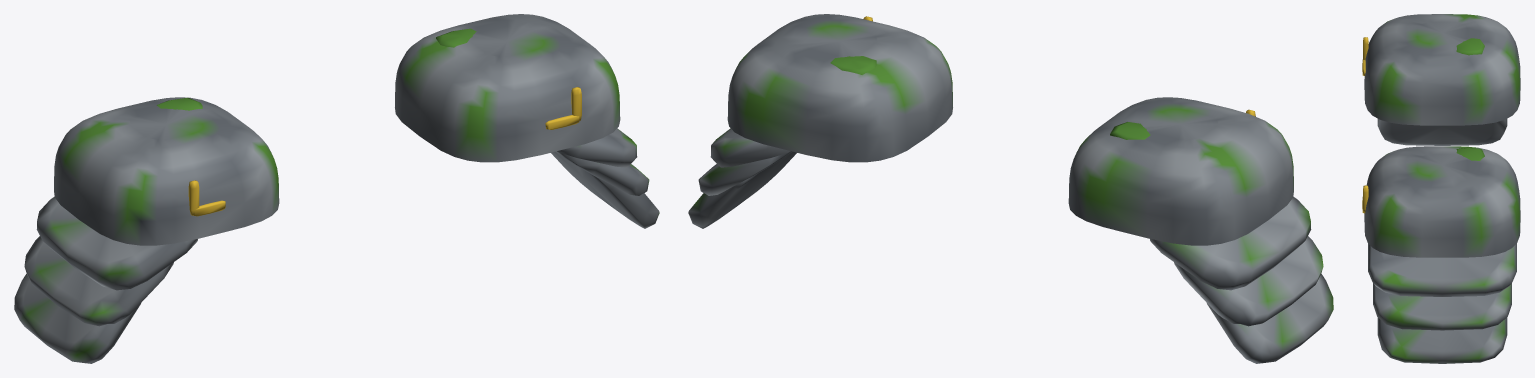
Rendered from neck_bxgolem.glb.
3 views of the same model, side by side, from view 1: azimuth 30°, elevation 25°; view 2: azimuth 150°, elevation 25°; view 3: azimuth 270°, elevation 25° (orthographic). The views are drawn at different scales.
Visible parts, largest first — view 1: bxgolem; view 2: bxgolem; view 3: bxgolem.
Boxes of the visible parts, bbox=[...] form: bxgolem: bbox=[14, 14, 659, 363]; bxgolem: bbox=[688, 14, 1333, 363]; bxgolem: bbox=[1362, 14, 1520, 363].
Bounding box in the file's own units: 5.41 × 1.72 × 1.58.
